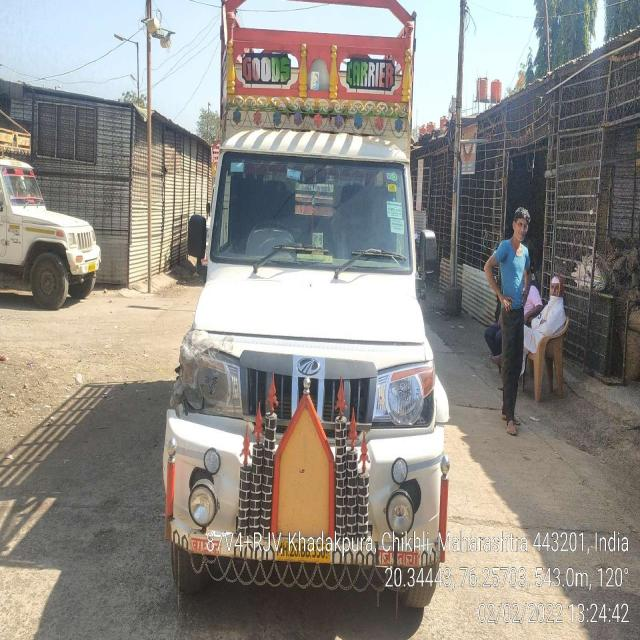light_vehicle: (165, 137, 454, 584)
